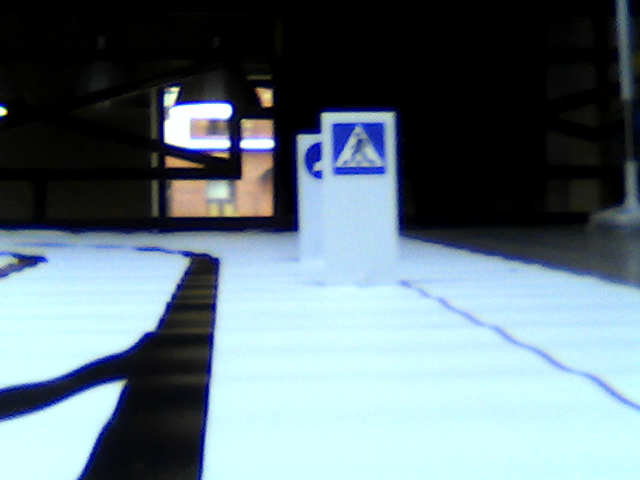pesh: (331, 124, 385, 172)
